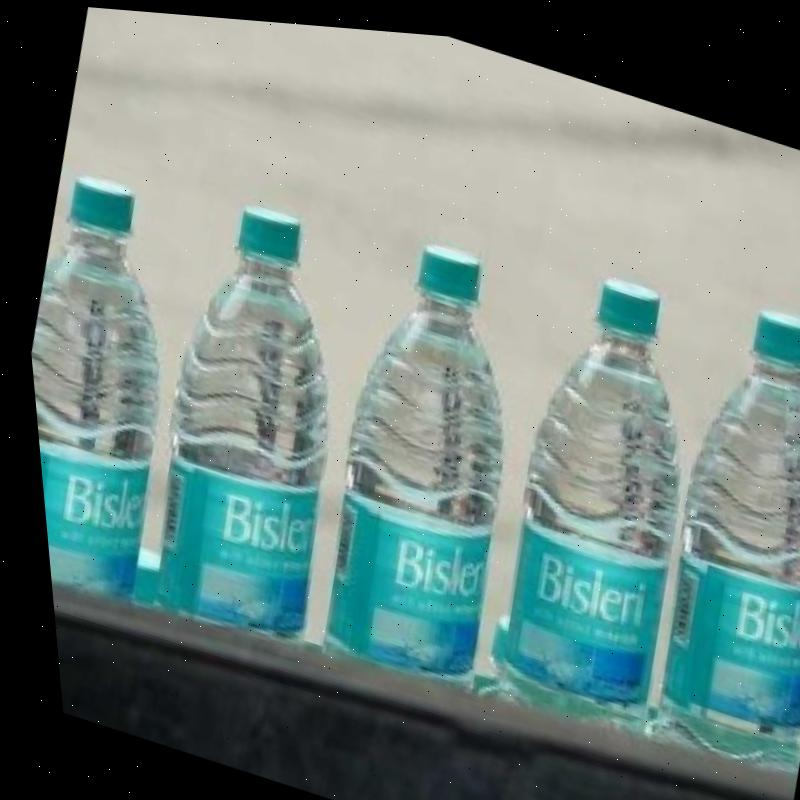botella: (270, 212, 566, 693), (454, 245, 741, 734), (105, 181, 396, 650), (600, 272, 800, 783), (11, 159, 226, 613)
